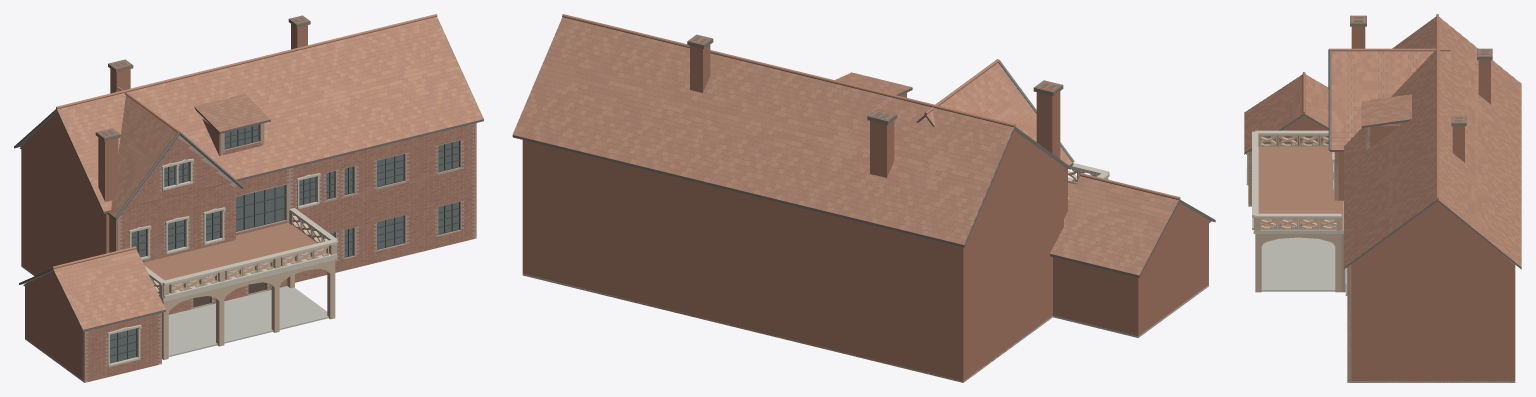
File: changning-xinhua-lane-185-no1-raw.glb
3 views of the same model, side by side, from view 1: azimuth 30°, elevation 25°; view 2: azimuth 150°, elevation 25°; view 3: azimuth 270°, elevation 25° (orthographic). The views are drawn at different scales.
Visible parts, largest first — view 1: 新华路185弄1号花园住宅; view 2: 新华路185弄1号花园住宅; view 3: 新华路185弄1号花园住宅.
Boxes of the visible parts, box(x1,y1,x2,y2) form: 新华路185弄1号花园住宅: box(14, 14, 483, 382); 新华路185弄1号花园住宅: box(512, 14, 1215, 382); 新华路185弄1号花园住宅: box(1244, 14, 1521, 382).
Size of the model in its own units: 26.8 by 11.75 by 14.41.
